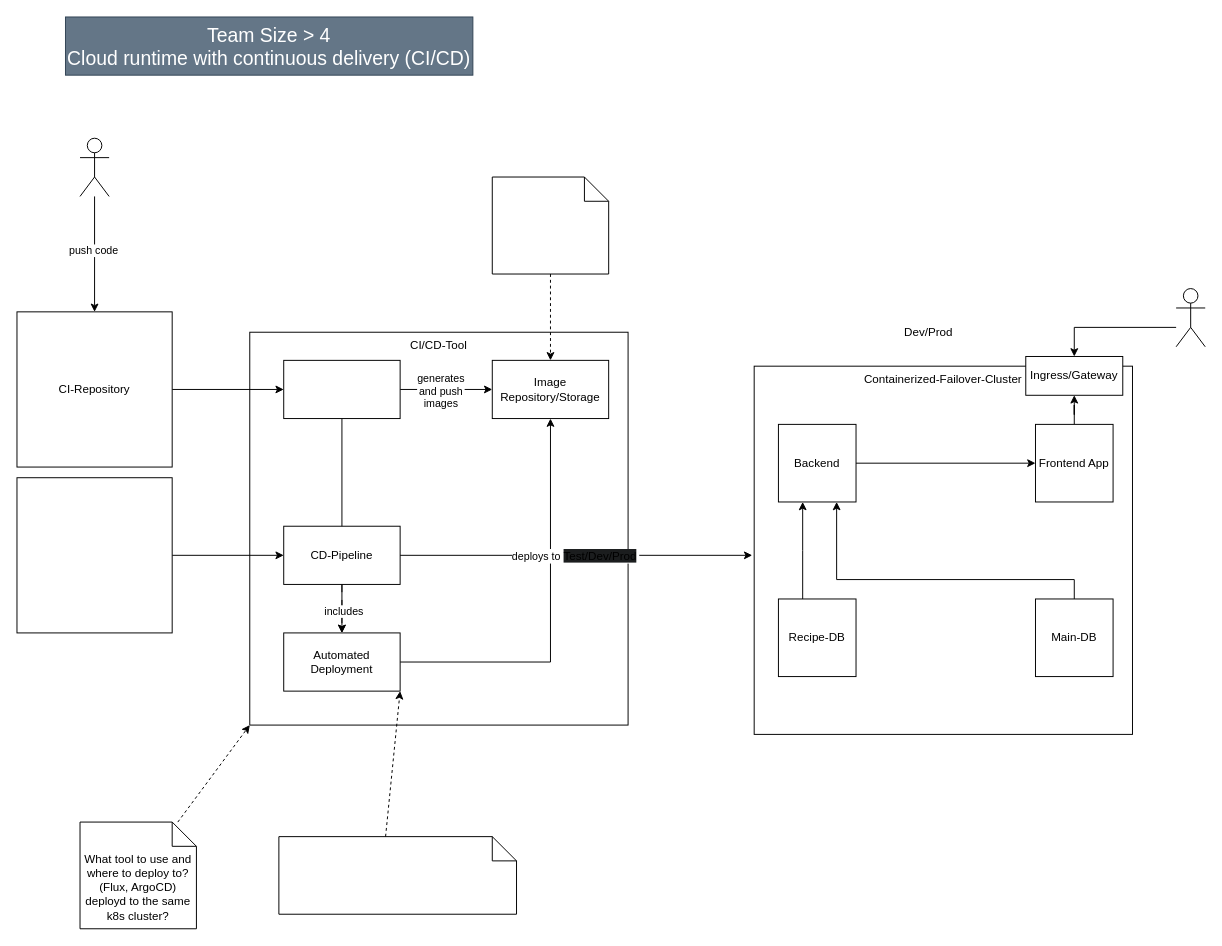
Image size: 1222x946. Some labels were removed from this diagram. Here are the shapes that lost their labels. From the top down, the centre of each, then its label:
At point 94,166: "Devs".
At point 550,225: "Is an Image Repository really needed and if yes, which tech?".
At point 1190,317: "Users".
At point 341,389: "CI-Pipeline".
At point 94,555: "CD-Repository".
At point 397,875: "Kustomize/Helm/Only Kubectl?".
